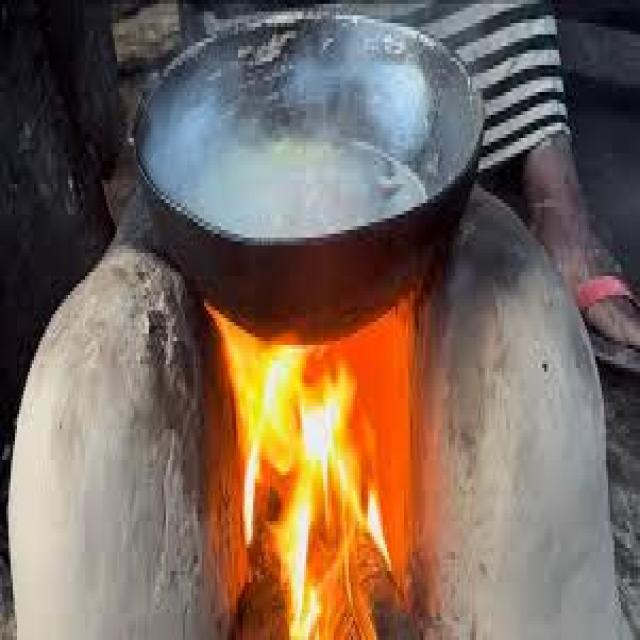fire: (204, 305, 391, 640)
